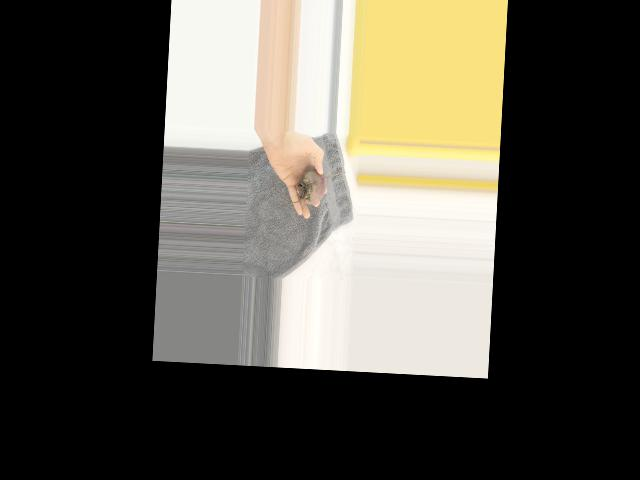beet: (294, 164, 346, 205)
